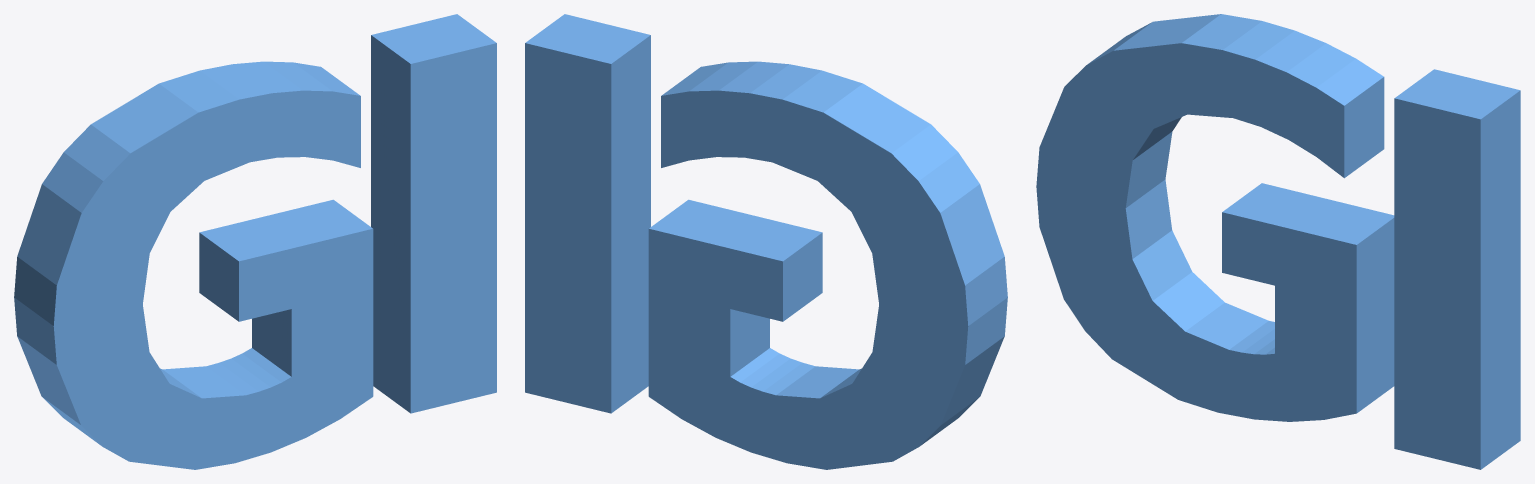
File: suku_besar_gi.glb
3 renders of one model, left to right at view 1: azimuth 30°, elevation 25°; view 2: azimuth 150°, elevation 25°; view 3: azimuth 330°, elevation 25°, orthographic.
Visible parts, largest first — view 1: geometry_0; view 2: geometry_0; view 3: geometry_0.
Boxes of the visible parts, left/top/right/bottom form: geometry_0: left=14, top=14, right=496, bottom=469; geometry_0: left=525, top=14, right=1007, bottom=469; geometry_0: left=1036, top=14, right=1520, bottom=469.
Size of the model in its own units: 9.67 by 7.56 by 1.5.
